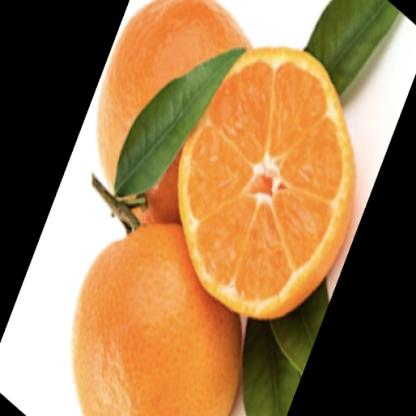fresh: (75, 4, 356, 415)
